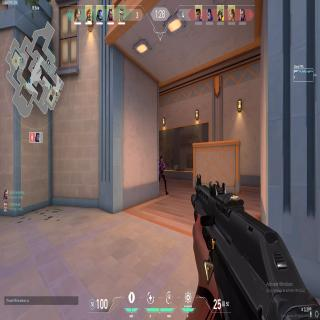ENEMY-BODY: (158, 153, 167, 194), (100, 7, 103, 22)
ENEMY-HEAD: (160, 156, 162, 162)
